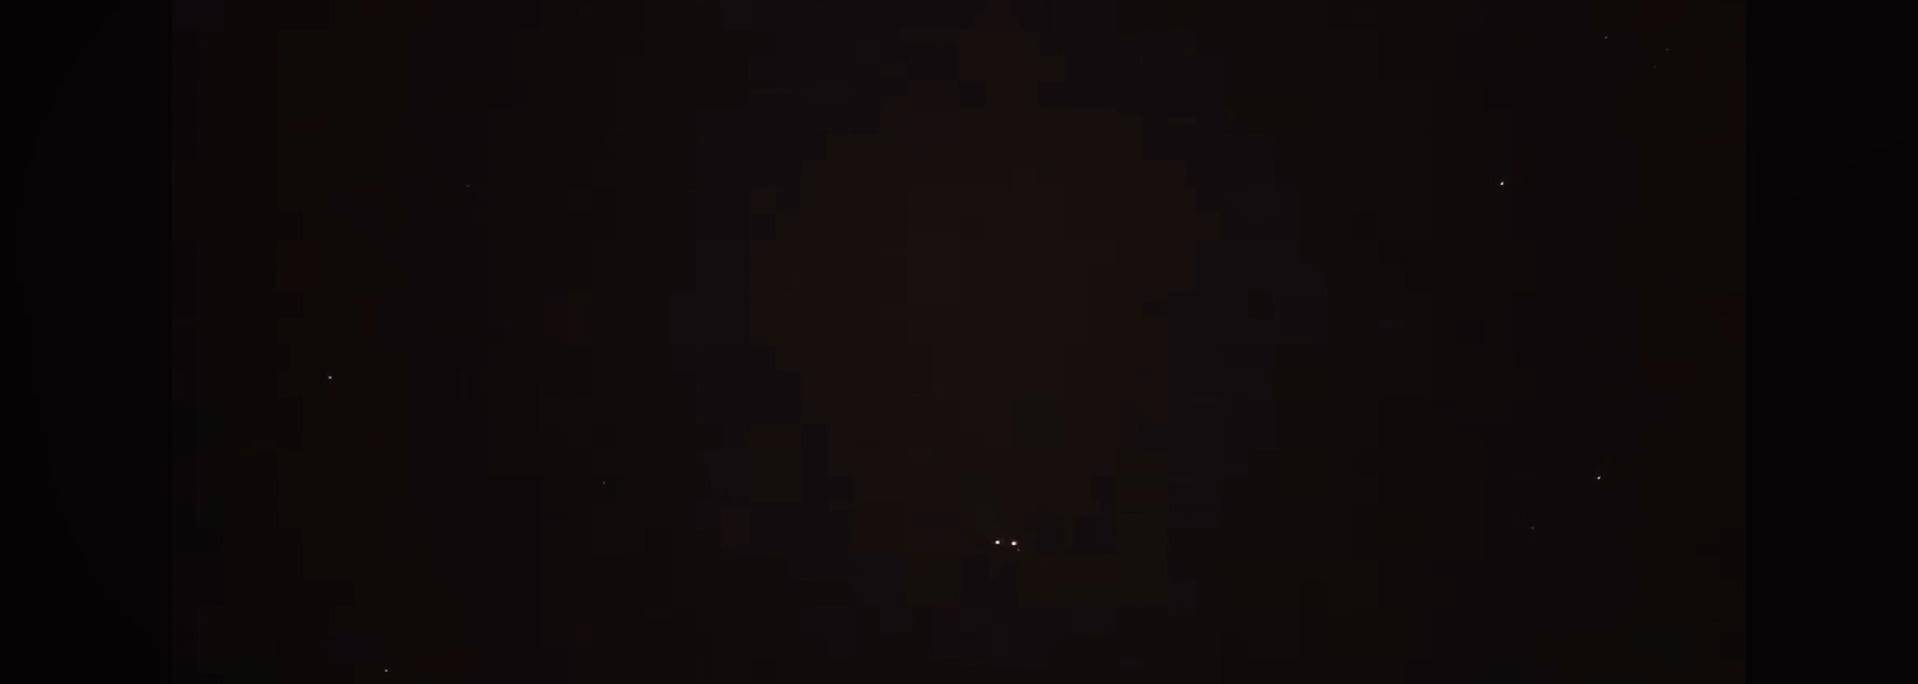Plane: (988, 535, 1035, 549)
